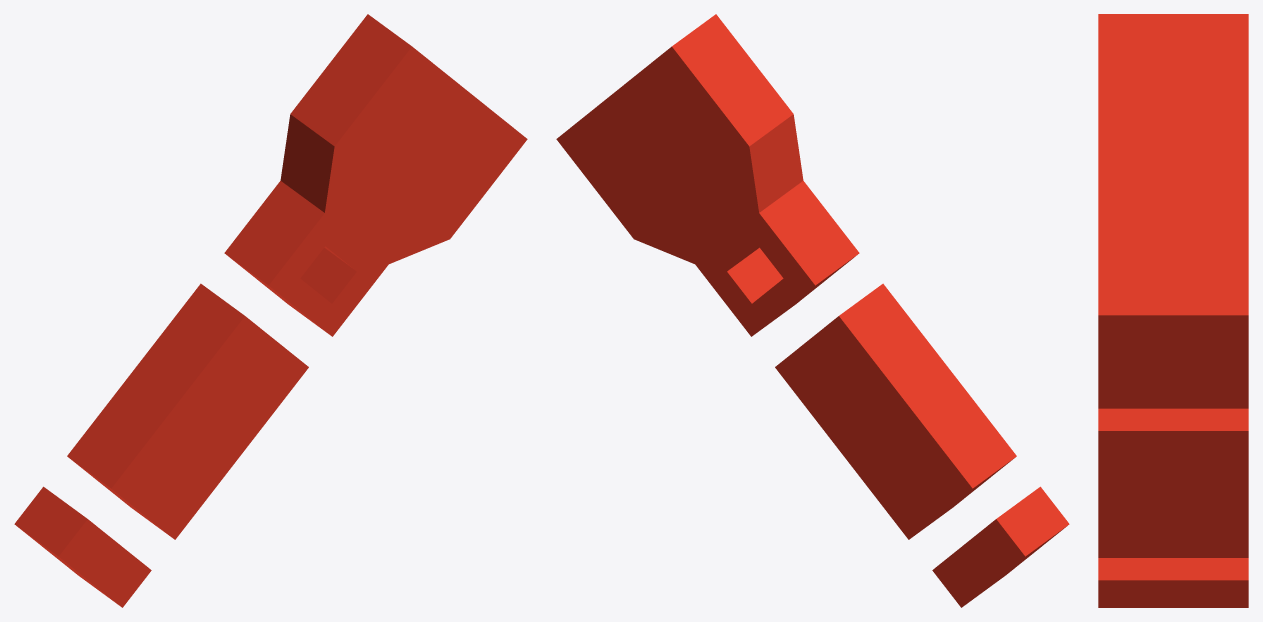
Rendered from Icon_Flashlight.fbx.
3 renders of one model, left to right at view 1: azimuth 30°, elevation 25°; view 2: azimuth 150°, elevation 25°; view 3: azimuth 270°, elevation 25°, orthographic. The views are drawn at different scales.
Visible parts, largest first — view 1: Icon_Flashlight; view 2: Icon_Flashlight; view 3: Icon_Flashlight.
Boxes of the visible parts, <box> form: Icon_Flashlight: <box>14,14,527,607</box>; Icon_Flashlight: <box>556,14,1069,607</box>; Icon_Flashlight: <box>1098,14,1248,607</box>.
Bounding box in the file's own units: 73.74 × 73.74 × 12.06.
